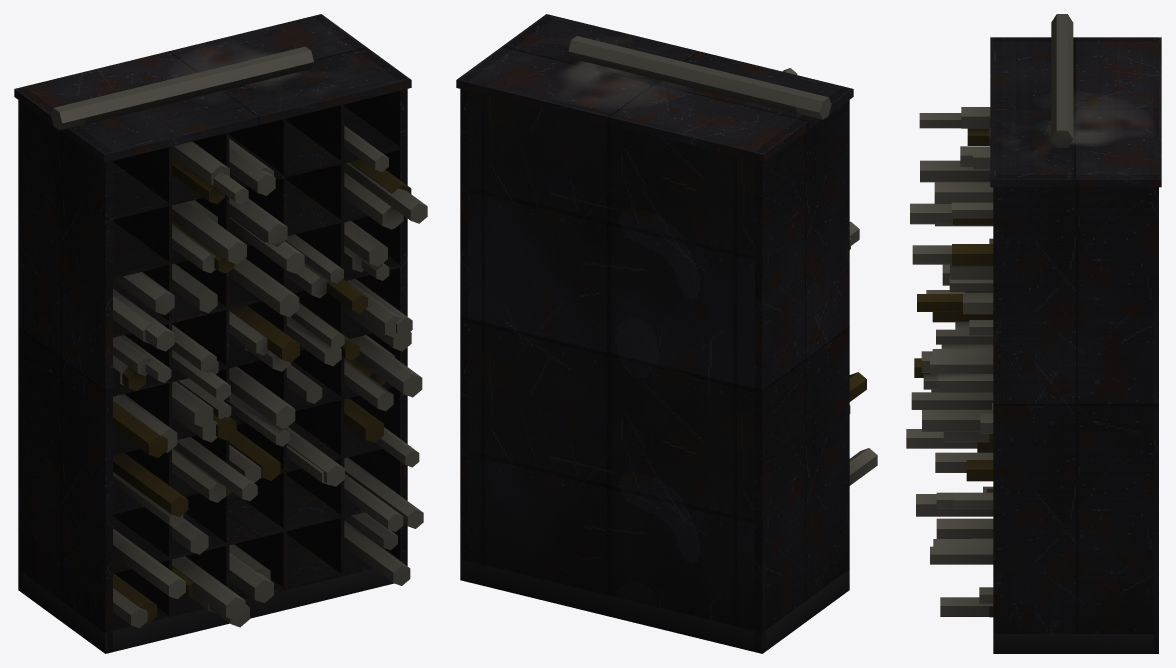
File: tube_rack.glb
The picture shows the model from 3 angles, left to right: view 1: azimuth 30°, elevation 25°; view 2: azimuth 150°, elevation 25°; view 3: azimuth 270°, elevation 25°; orthographic projection. The views are drawn at different scales.
Visible parts, largest first — view 1: body, decals; view 2: body, decals; view 3: body, decals.
Boxes of the visible parts, <box> form: body: <box>14,14,427,653</box>; decals: <box>176,46,301,85</box>; body: <box>456,14,877,653</box>; decals: <box>561,61,682,105</box>; body: <box>906,14,1161,653</box>; decals: <box>1045,98,1146,145</box>.
Size of what is drawn, in the model's own units: 1.26 by 1.97 by 0.9246.
7 materials, 4 textured.
